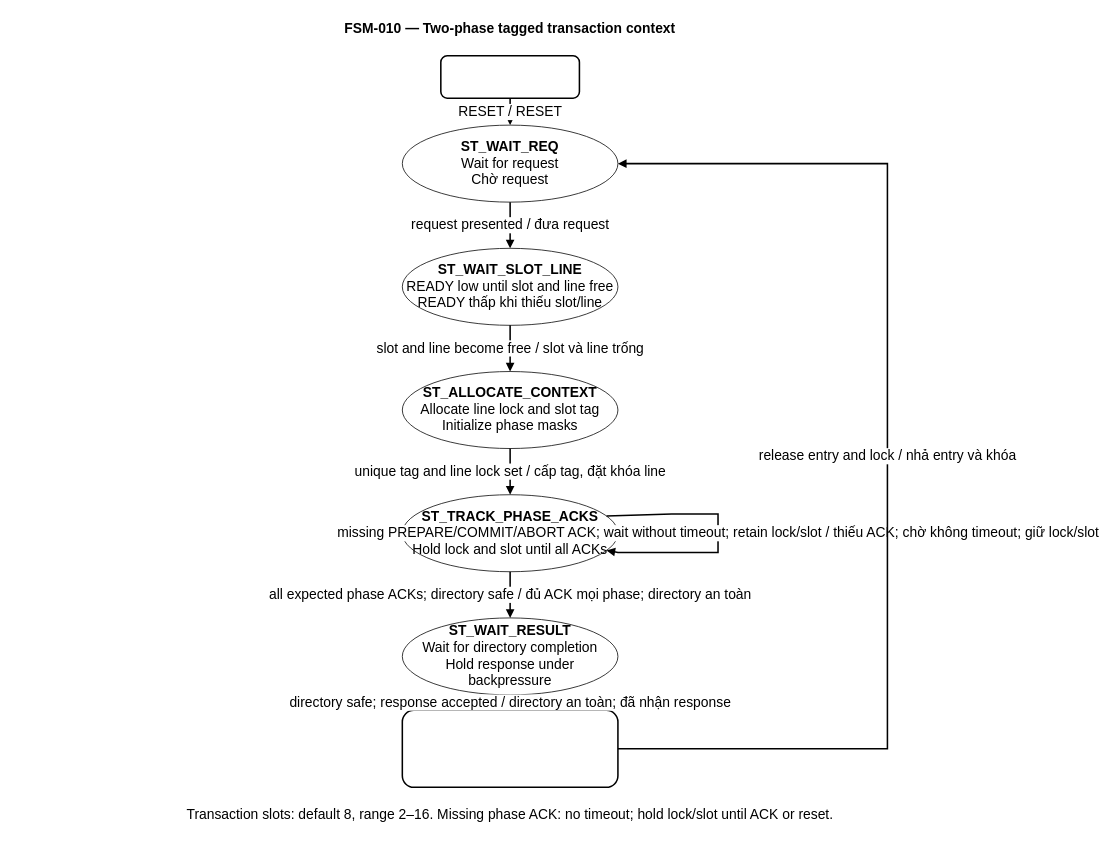
Some shapes in this 1112 by 845 pixel diagram are drawn without their labels. The shapes that lost their labels are listed below. From the top down, each one's centre as x and y in pixels, then its label:
the point at 510,77: RESET RELEASED Reset đã nhả
the point at 509,748: ST_RELEASE_CONTEXT Release line lock and tag slot Only after every phase ACK
